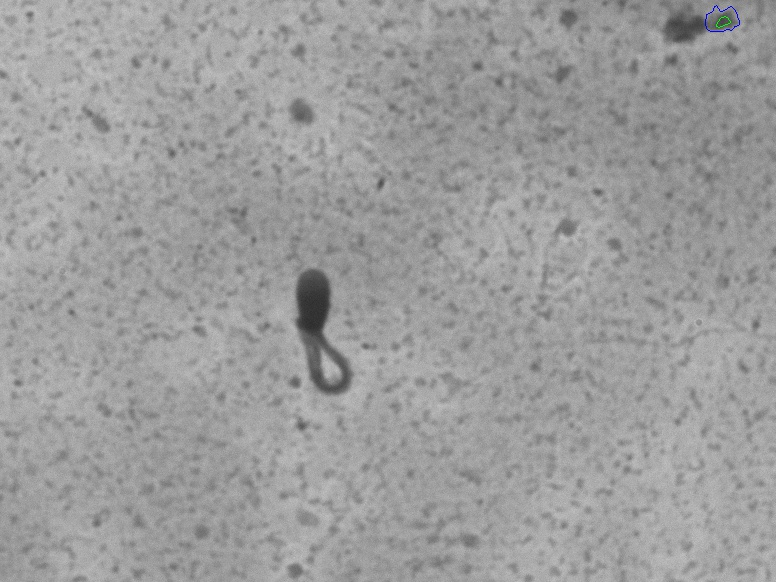Abnormal: (239, 233, 395, 430)
